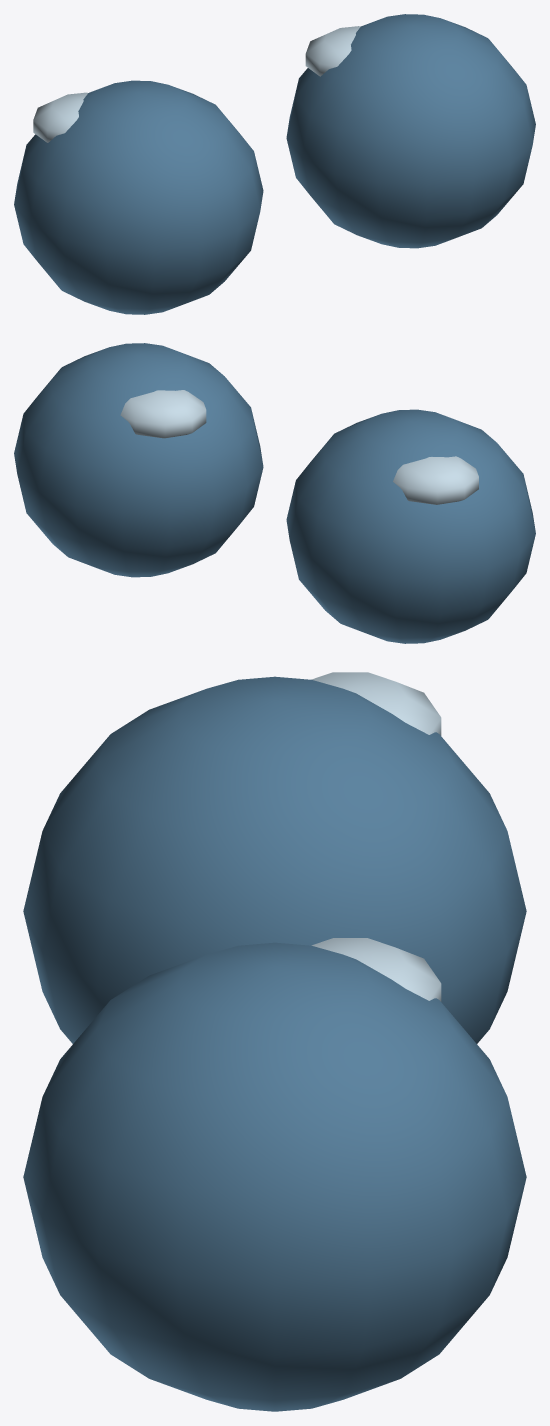
The model's file is newshd-228.glb.
3 views of the same model, one above another, from view 1: azimuth 30°, elevation 25°; view 2: azimuth 150°, elevation 25°; view 3: azimuth 270°, elevation 25° (orthographic). The views are drawn at different scales.
Parts seen in each view (by area): view 1: newshd-228; view 2: newshd-228; view 3: newshd-228.
Boxes of the visible parts, x1,y1,x2,y2 form: newshd-228: (14,14,535,314); newshd-228: (14,343,535,643); newshd-228: (23,672,526,1411).
Size of the model in its own units: 0.9 by 0.368 by 0.4.
